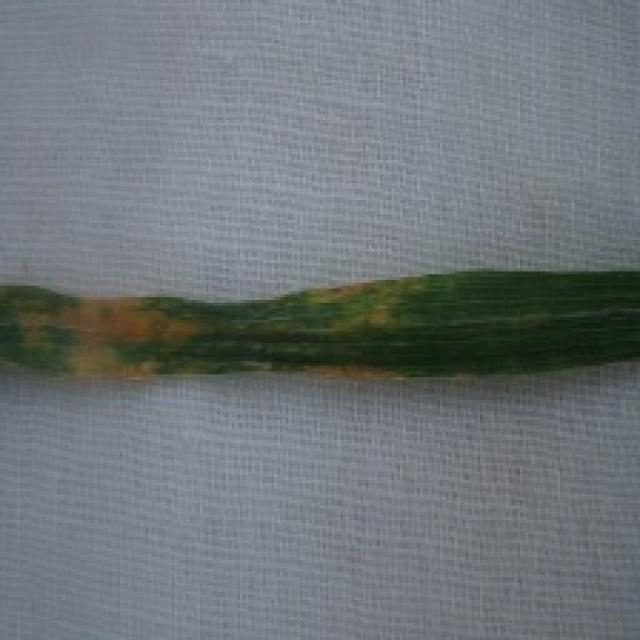Bacterial_Blight: (4, 276, 210, 400), (242, 357, 409, 417), (286, 268, 451, 326)
